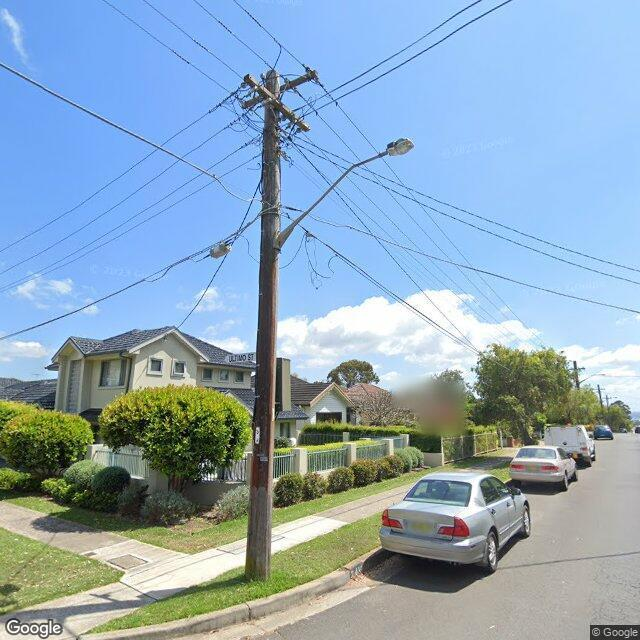crossarm: (244, 73, 309, 132), (243, 73, 314, 109), (568, 367, 585, 372), (594, 388, 605, 391)
streetlight: (276, 136, 414, 256), (579, 373, 606, 384)
timber-pole: (243, 68, 280, 582), (574, 361, 580, 387), (596, 383, 602, 406), (605, 393, 610, 406)
